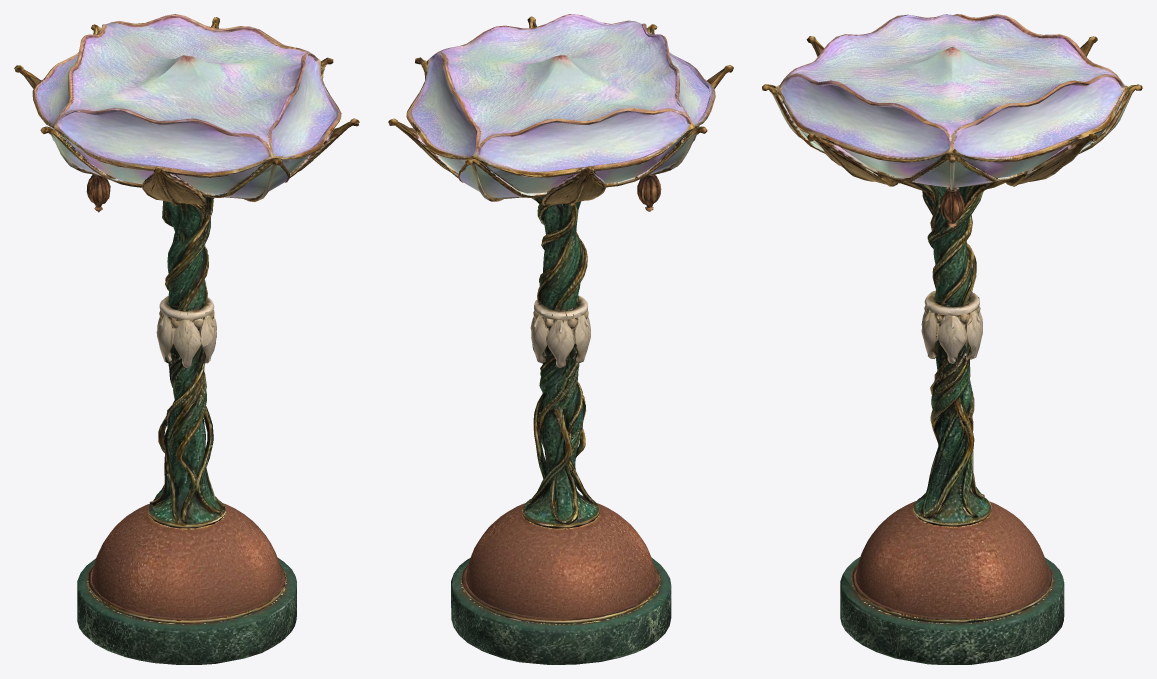
Rendered from ON-01_bedside_table_game.glb.
3 views of the same model, side by side, from view 1: azimuth 30°, elevation 25°; view 2: azimuth 150°, elevation 25°; view 3: azimuth 270°, elevation 25° (orthographic).
Parts seen in each view (by area): view 1: ON-01_bedside_table; view 2: ON-01_bedside_table; view 3: ON-01_bedside_table.
Boxes of the visible parts, x1=… form: ON-01_bedside_table: x1=14, y1=14, x2=359, y2=664; ON-01_bedside_table: x1=388, y1=14, x2=733, y2=664; ON-01_bedside_table: x1=762, y1=14, x2=1142, y2=664.
Size of the model in its own units: 0.3358 by 0.6201 by 0.3747.
1 material, 1 textured.
